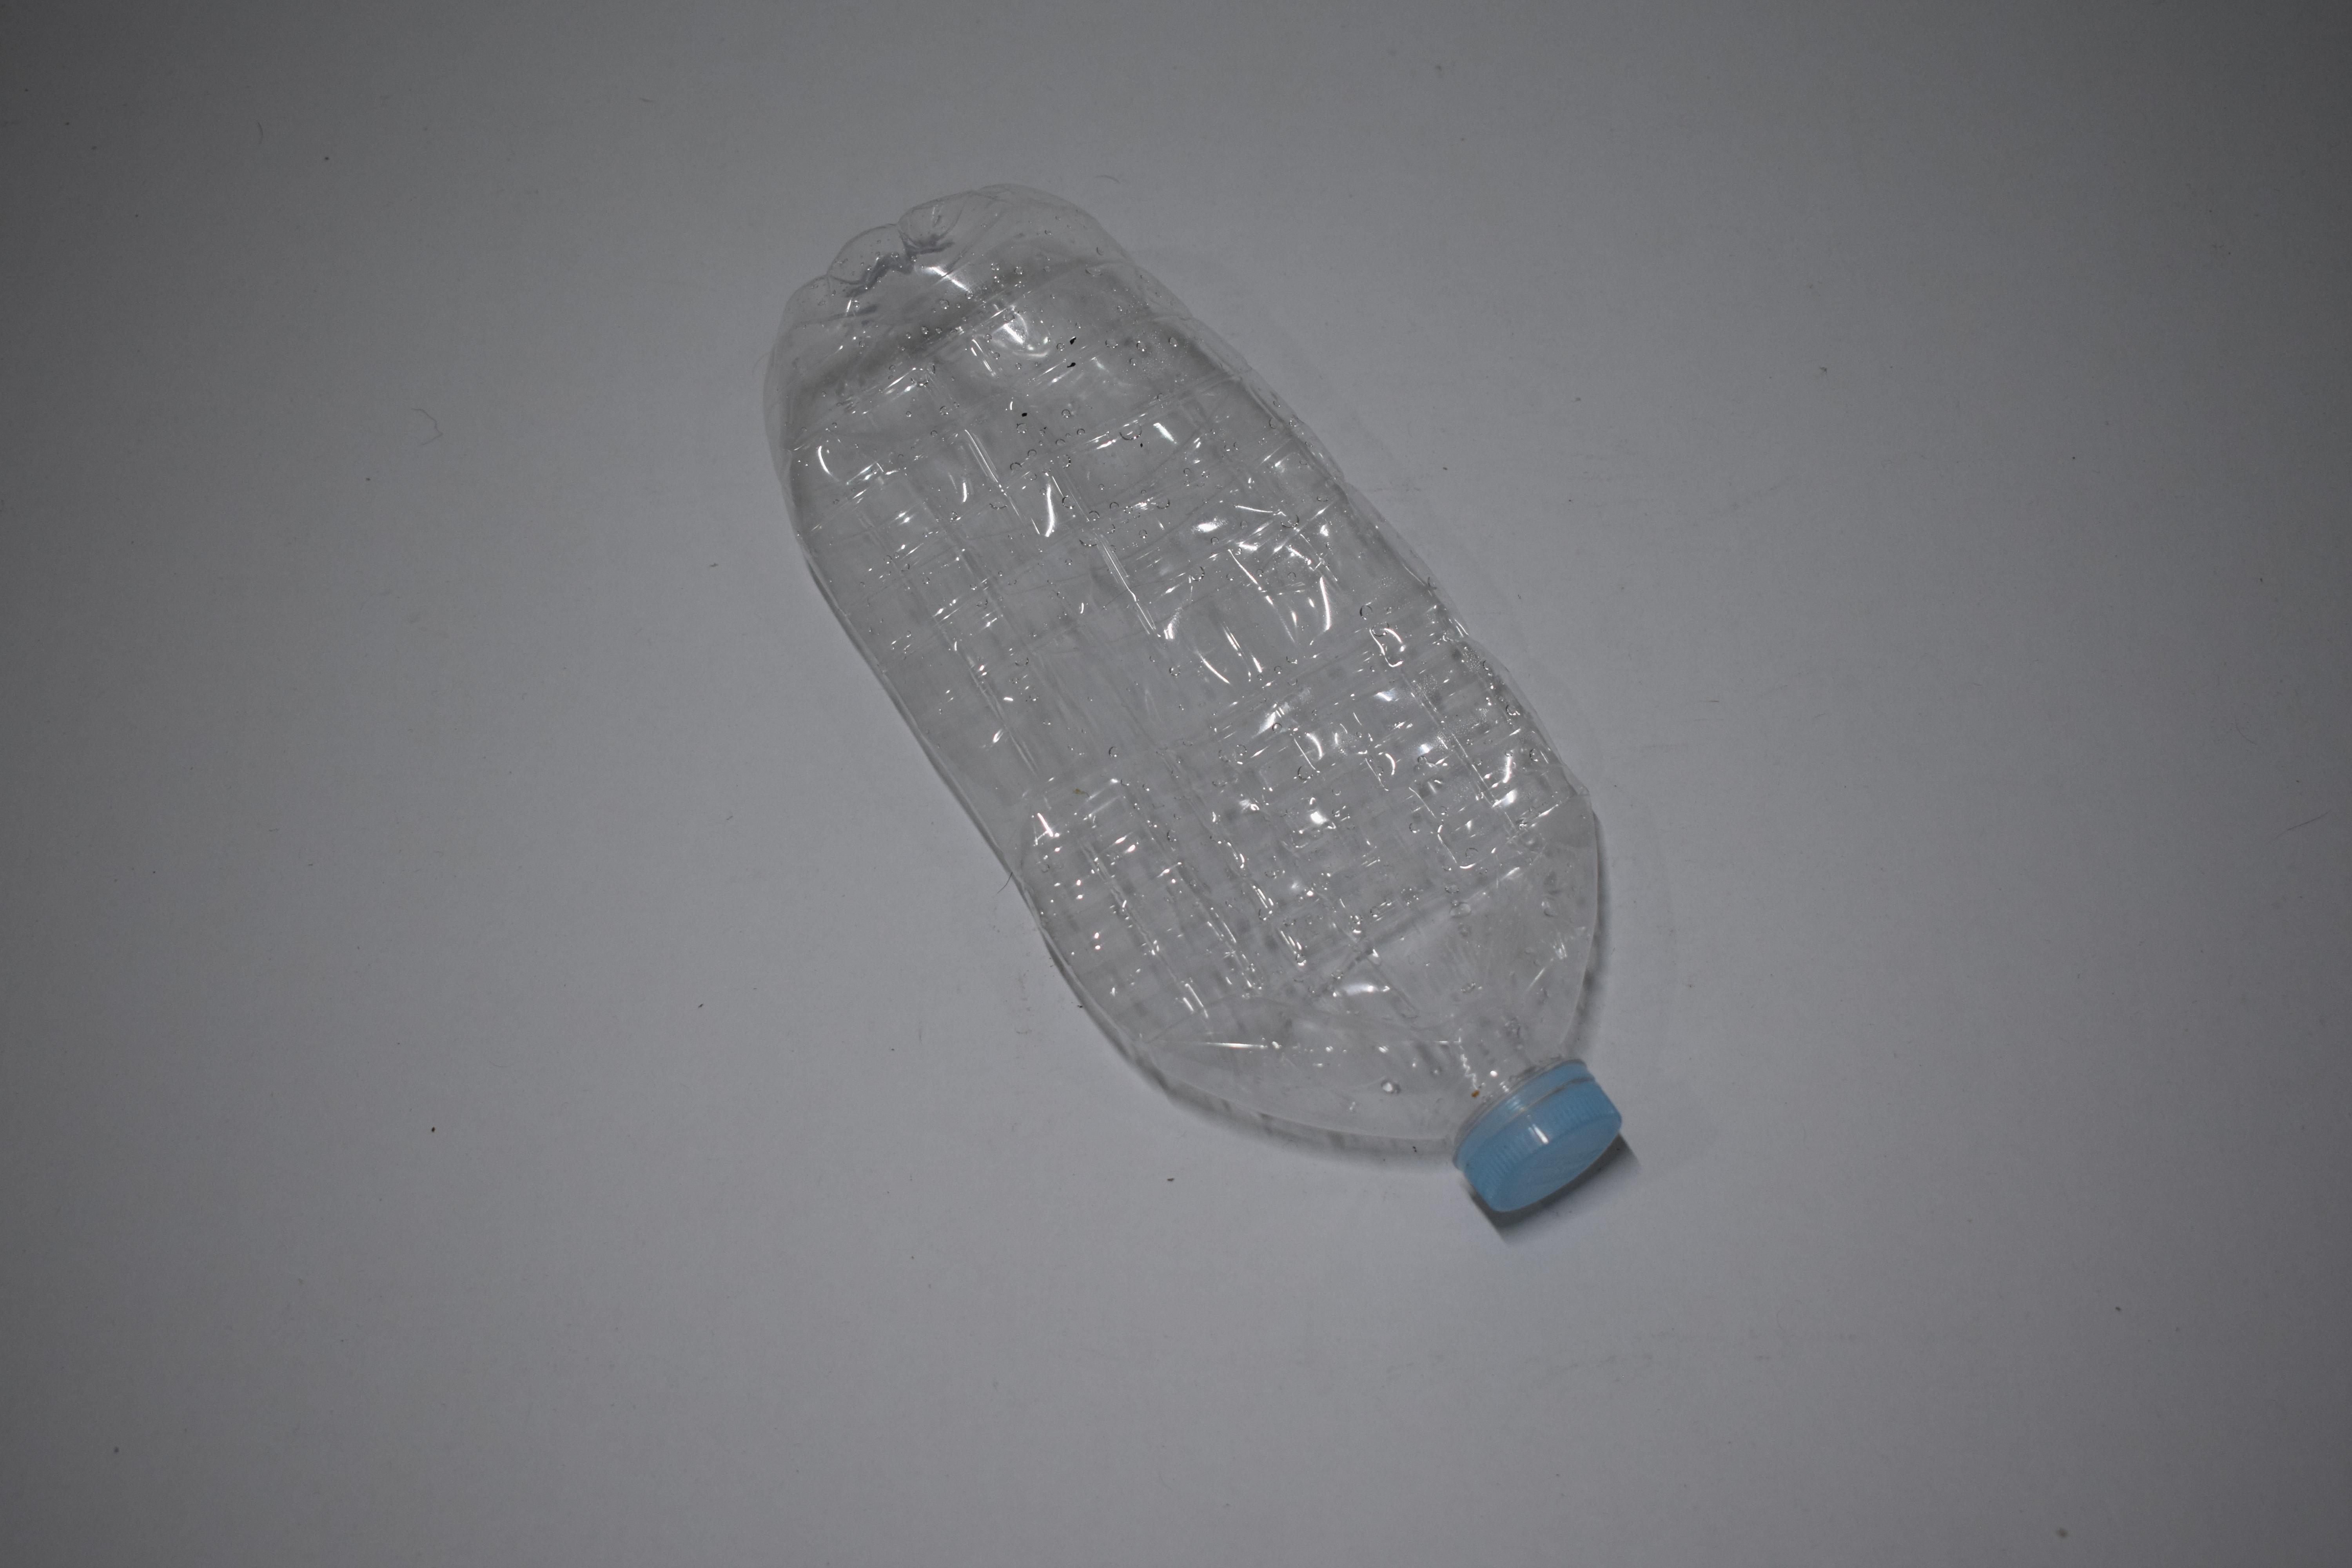bottle: (0, 168, 450, 1230)
